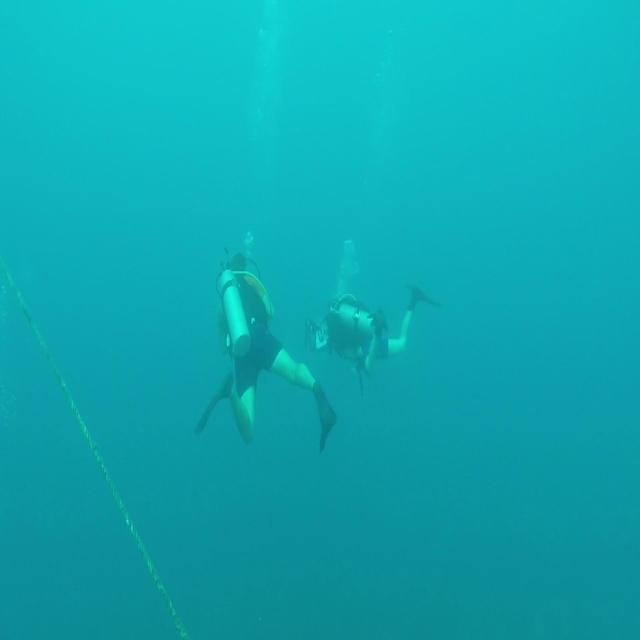human: (193, 246, 337, 452), (304, 281, 442, 396)
